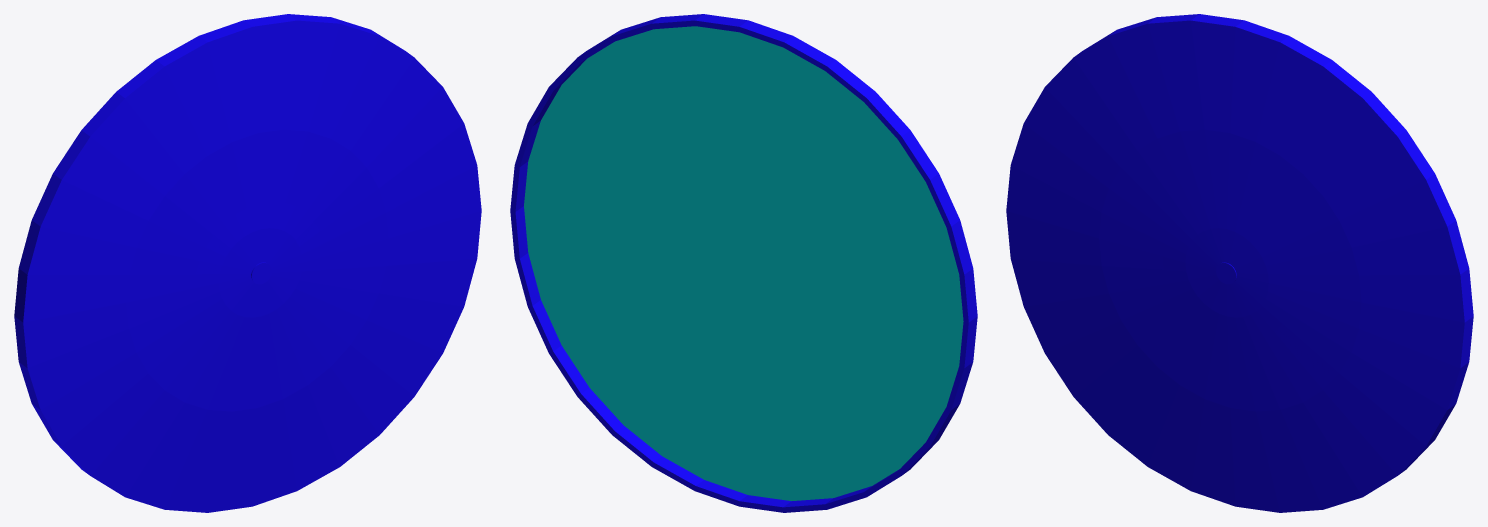
Rendered from disc1.fbx.
3 renders of one model, left to right at view 1: azimuth 30°, elevation 25°; view 2: azimuth 150°, elevation 25°; view 3: azimuth 330°, elevation 25°, orthographic.
Parts seen in each view (by area): view 1: Cylinder; view 2: Cylinder; view 3: Cylinder.
Boxes of the visible parts, box(x1,y1,x2,y2) form: Cylinder: box(14, 14, 481, 512); Cylinder: box(510, 14, 977, 512); Cylinder: box(1006, 14, 1473, 512).
Size of the model in its own units: 297 by 297 by 20.57.
